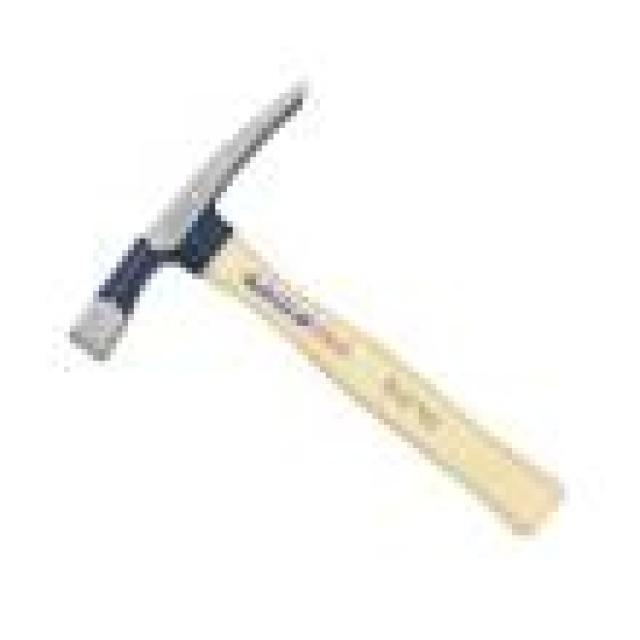hammer: (52, 68, 579, 550)
